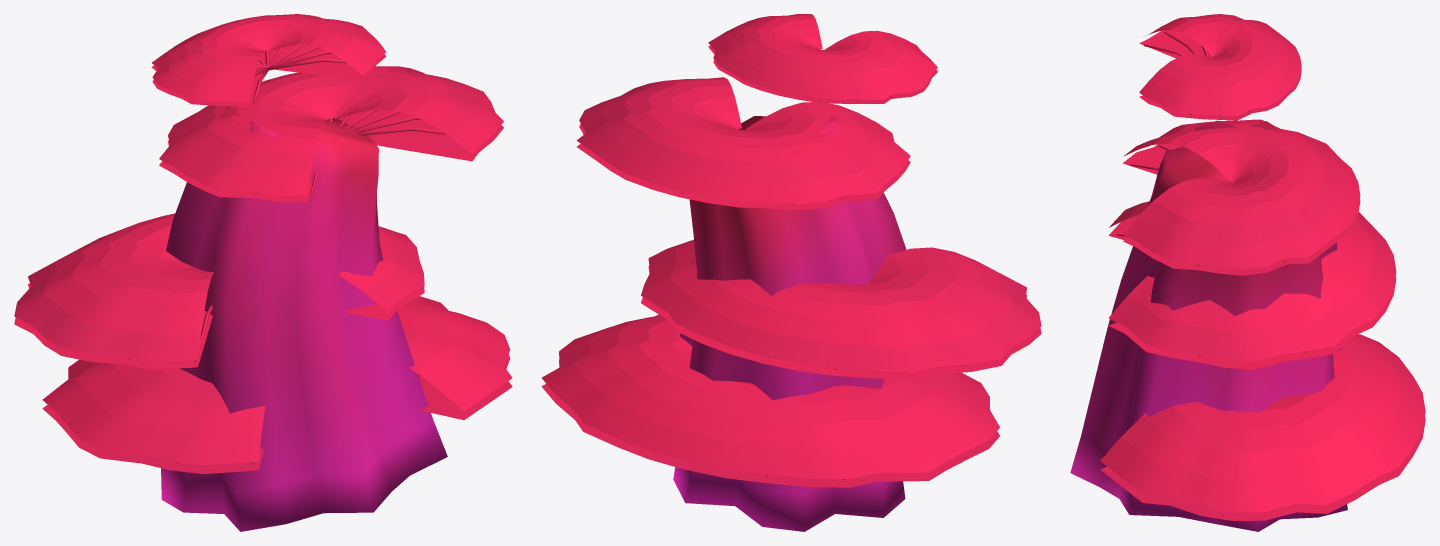
The model's file is SM_LW_ShelfFungi.fbx.
3 views of the same model, side by side, from view 1: azimuth 30°, elevation 25°; view 2: azimuth 150°, elevation 25°; view 3: azimuth 270°, elevation 25° (orthographic). The views are drawn at different scales.
Visible parts, largest first — view 1: SM_LW_ShelfFungi; view 2: SM_LW_ShelfFungi; view 3: SM_LW_ShelfFungi.
Boxes of the visible parts, left/top/right/bottom form: SM_LW_ShelfFungi: left=14, top=14, right=512, bottom=531; SM_LW_ShelfFungi: left=541, top=14, right=1041, bottom=531; SM_LW_ShelfFungi: left=1070, top=14, right=1425, bottom=531.
Bounding box in the file's own units: 39.07 × 57.1 × 53.68.
